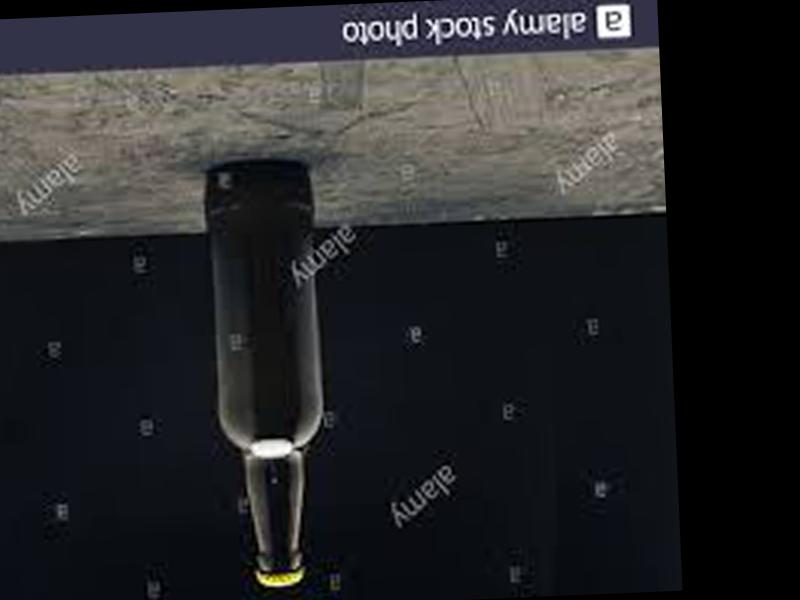Beer: (205, 162, 321, 587)
